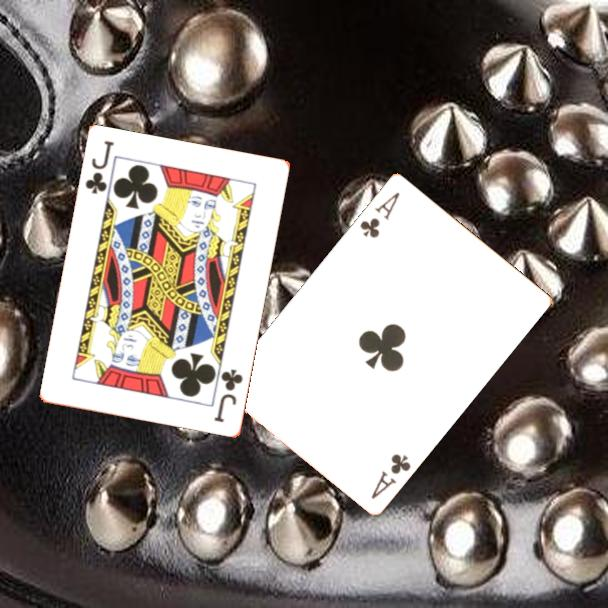c01: (356, 188, 403, 241), (367, 450, 414, 502)
c11: (211, 366, 246, 426), (82, 137, 117, 197)
